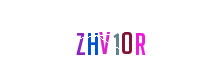1: (77, 0, 157, 80)
H: (52, 0, 132, 80)
O: (85, 0, 165, 80)
R: (86, 0, 166, 80)
V: (69, 0, 149, 80)
Z: (40, 0, 120, 80)
